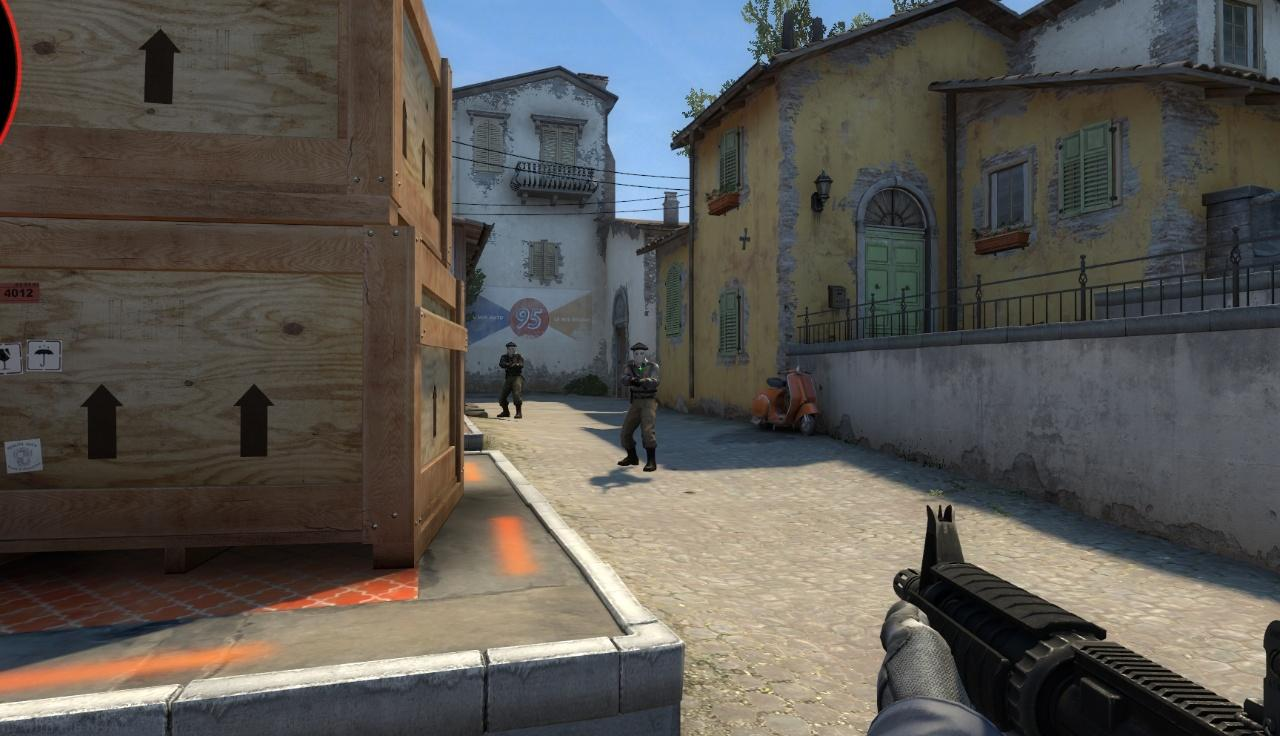rifle: (872, 498, 1274, 732)
tt: (617, 343, 660, 472), (498, 340, 527, 420)
tthead: (630, 342, 649, 364), (505, 341, 517, 356)
